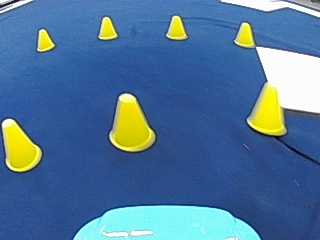cone: (108, 93, 154, 151), (0, 118, 41, 171), (245, 82, 286, 134), (165, 14, 188, 40), (233, 21, 255, 47), (97, 15, 118, 39), (35, 27, 54, 51)
